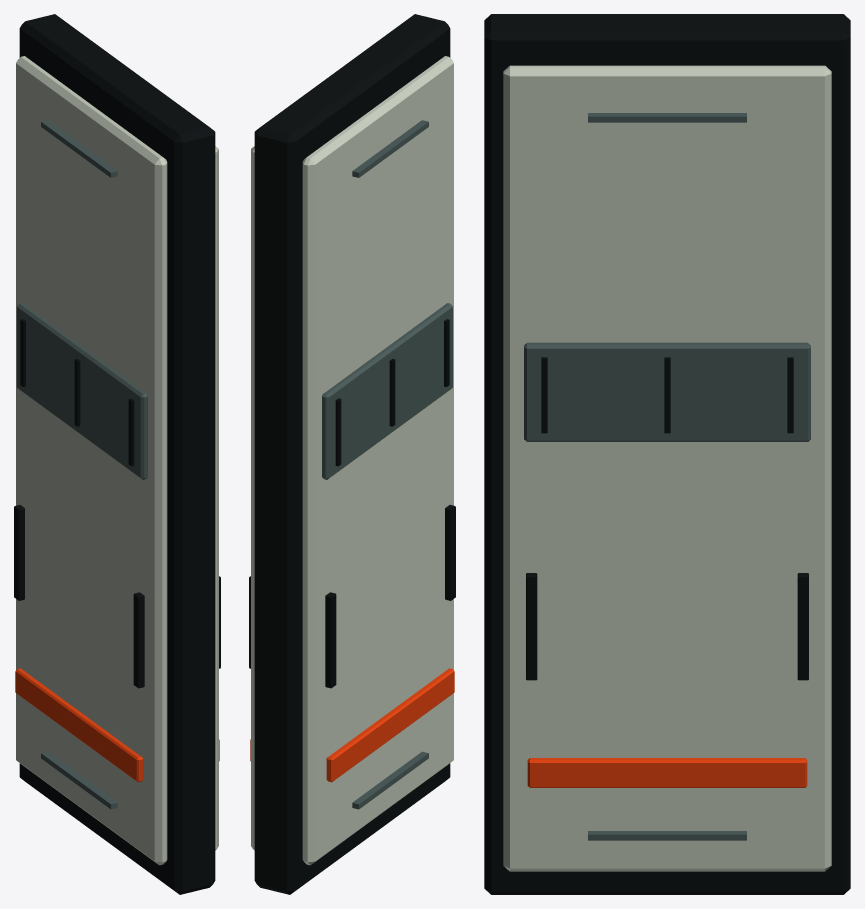
File: SM_MP_Access_Leaf.fbx
The picture shows the model from 3 angles, left to right: view 1: azimuth 30°, elevation 25°; view 2: azimuth 150°, elevation 25°; view 3: azimuth 270°, elevation 25°; orthographic projection. The views are drawn at different scales.
Parts seen in each view (by area): view 1: SM_MP_Access_Leaf; view 2: SM_MP_Access_Leaf; view 3: SM_MP_Access_Leaf.
Part boxes in pixels (x1,y1,x2,y2): SM_MP_Access_Leaf: (14,14,220,894); SM_MP_Access_Leaf: (249,14,455,894); SM_MP_Access_Leaf: (484,14,850,894).
Bounding box in the file's own units: 42.5 × 143 × 372.
Materials: 1 (1 with a texture image).
